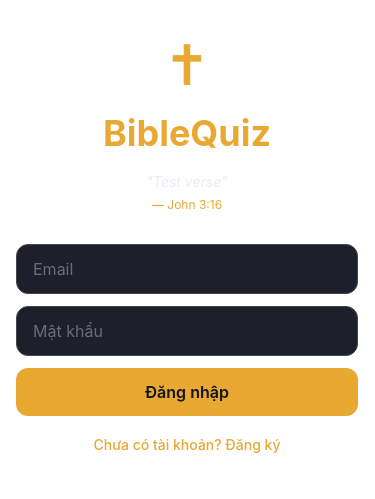
Test: LoginScreen › shows error on API failure
The image size is (375, 499).
Step 1. Type "test@test.com" into the field with placeholder "Email" → (187, 269), box [16, 244, 358, 294]
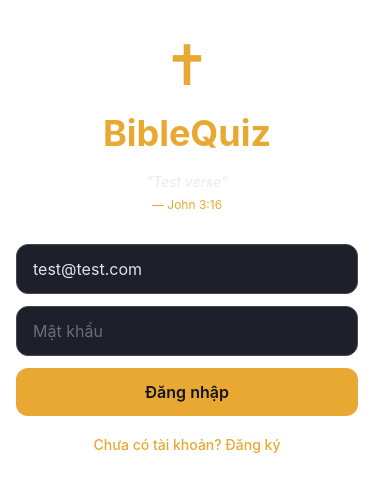
Step 2. Type "wrong" into the password field with placeholder "Mật khẩu" → (187, 331), box [16, 306, 358, 356]
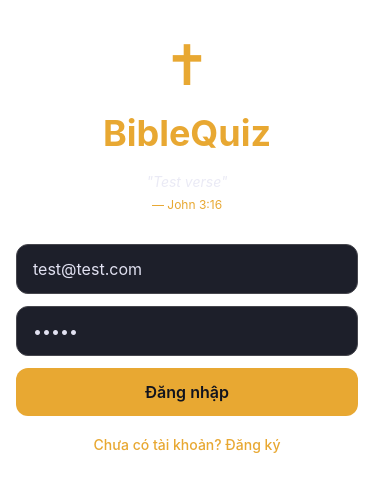
Step 3. Click the text "Đăng nhập" → (187, 392), box [145, 382, 229, 402]
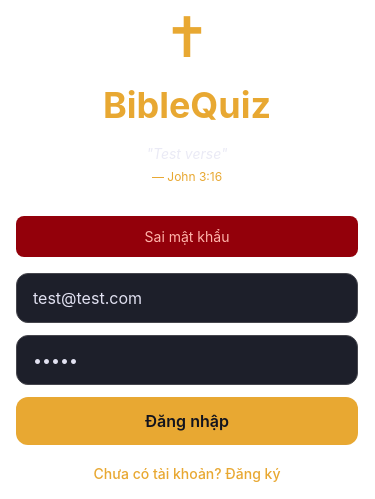
Result: the text "Sai mật khẩu" is shown at [144, 228, 229, 244]
